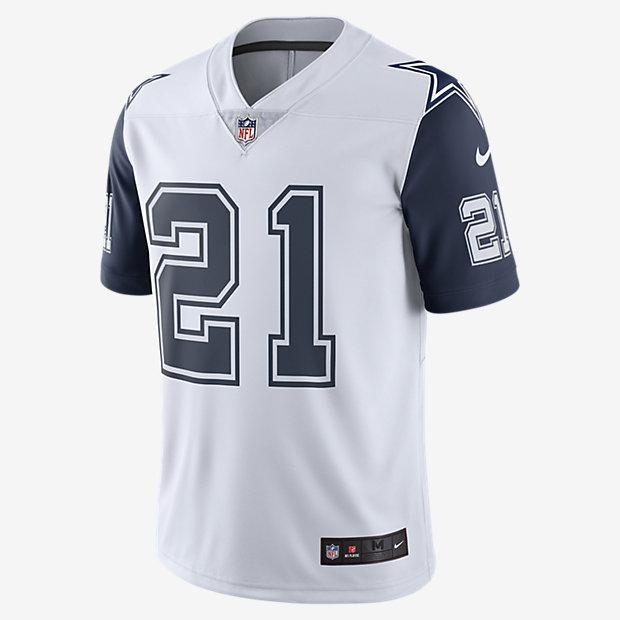teeshirt: (93, 9, 544, 620)
